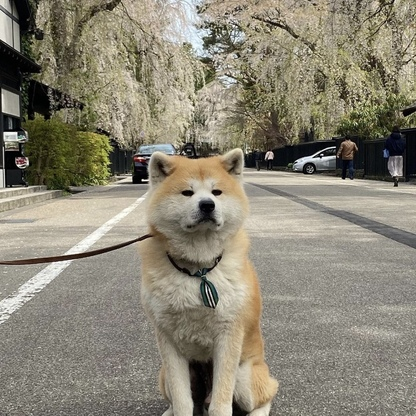akita: (127, 140, 291, 416)
